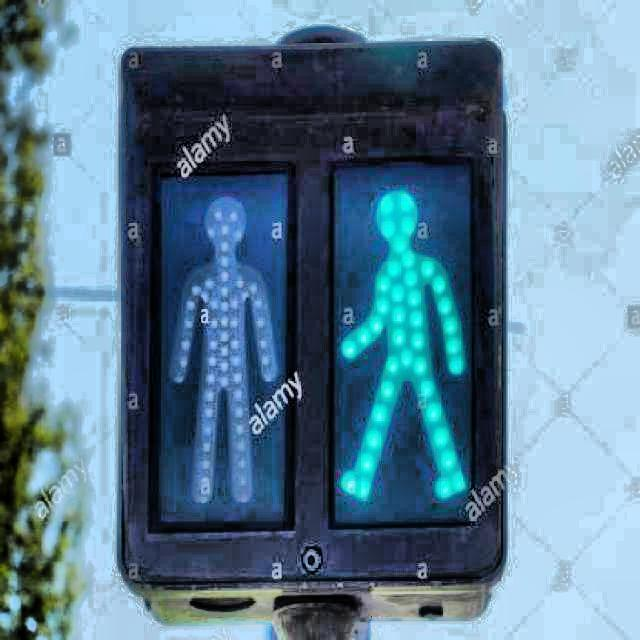semaforo pedestre: (59, 37, 614, 640)
